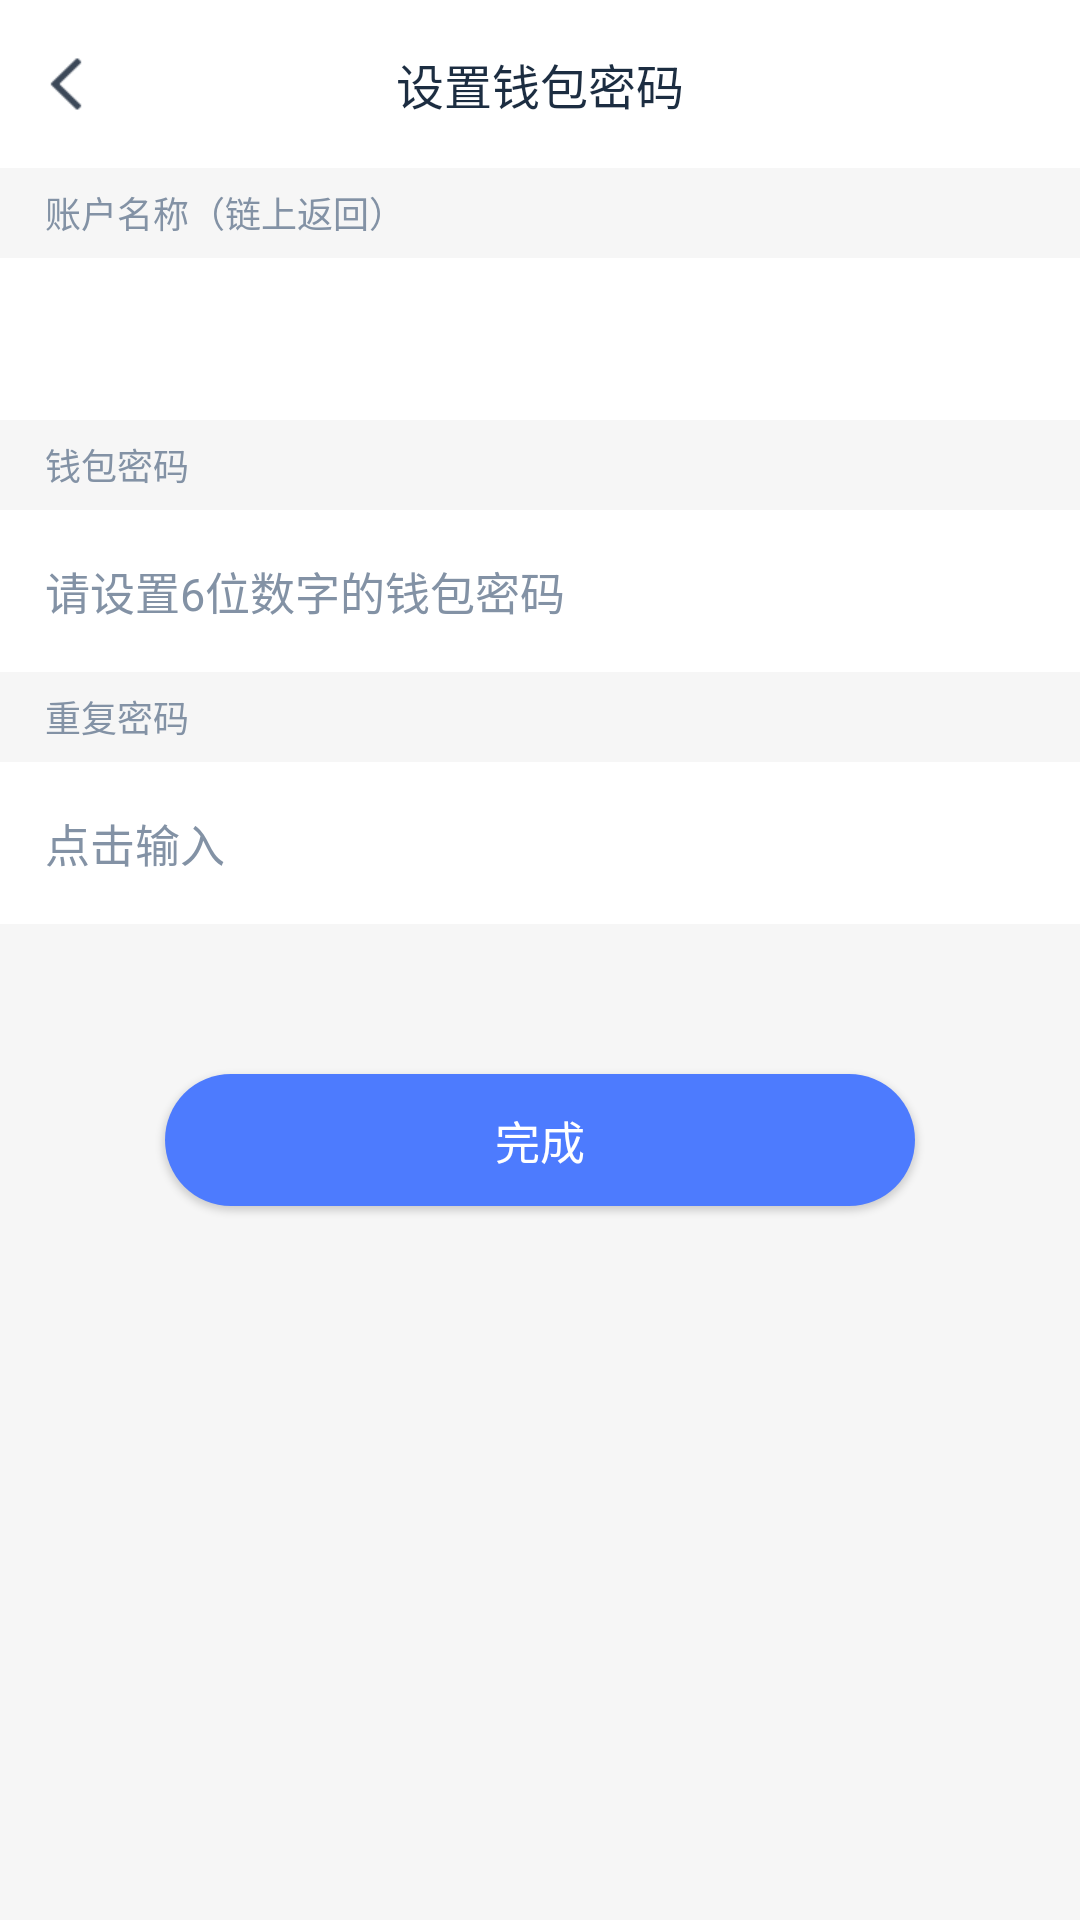

Point at icon controls on the screen. Image size 1080×1920, points as point (x, y).
aty back: point (66, 84)
